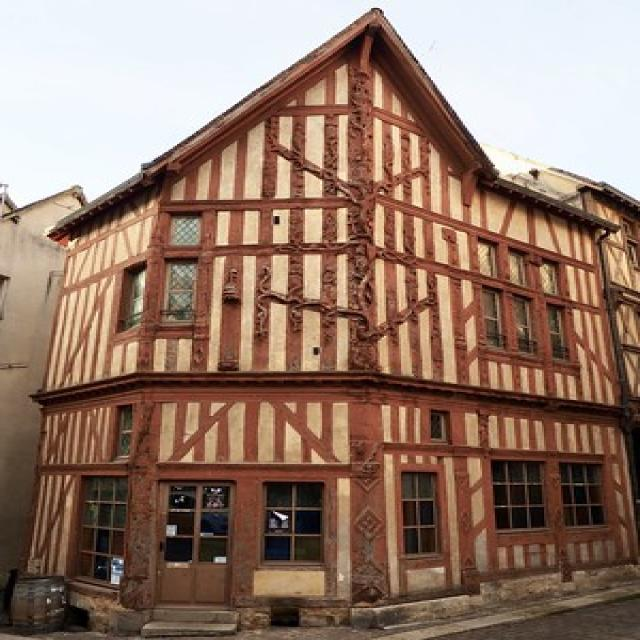building: (19, 3, 640, 629)
